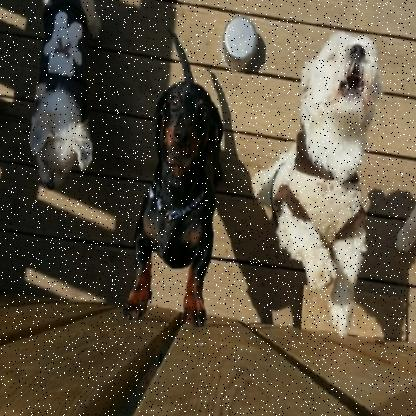dog: (250, 15, 384, 323), (121, 20, 235, 353), (27, 72, 88, 199)
